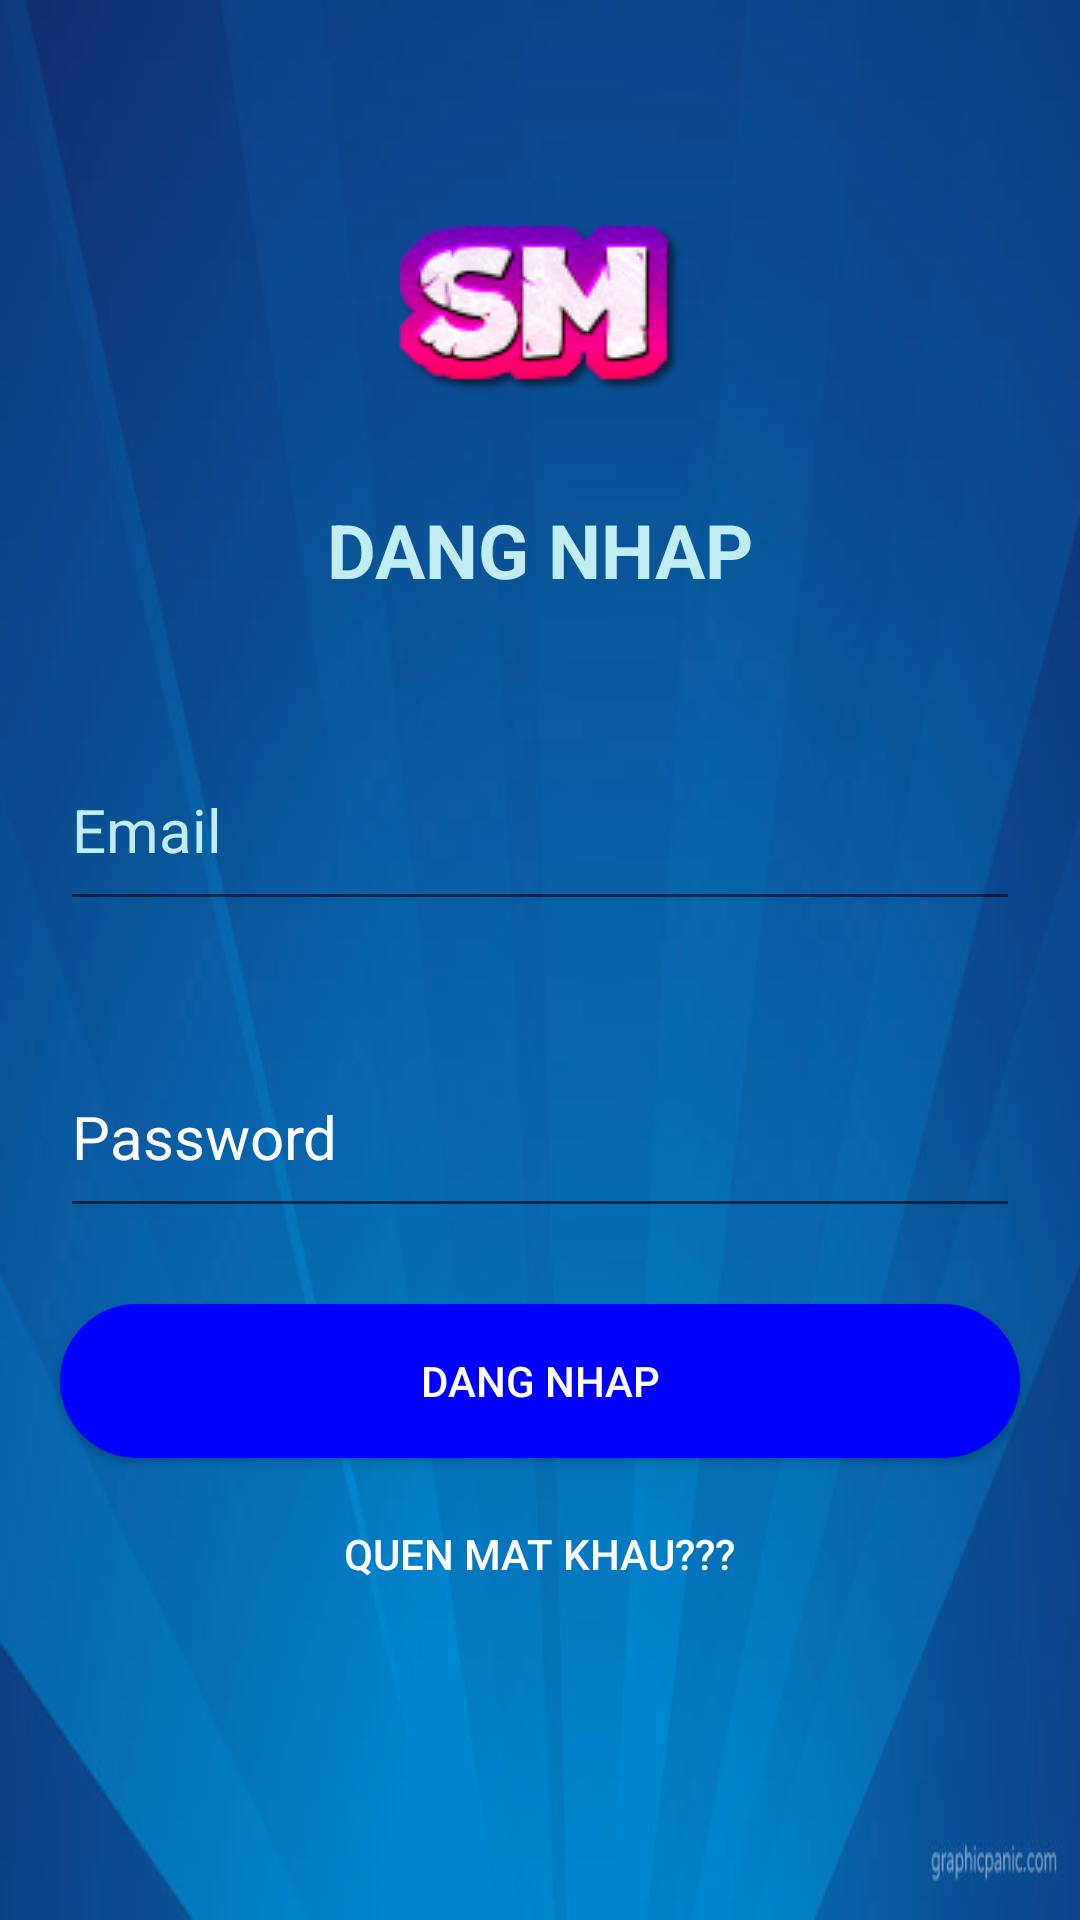

Icons on this 1080px x 1920px Android screen, each with the point to tap as (x,y):
lo go: (537,306)
